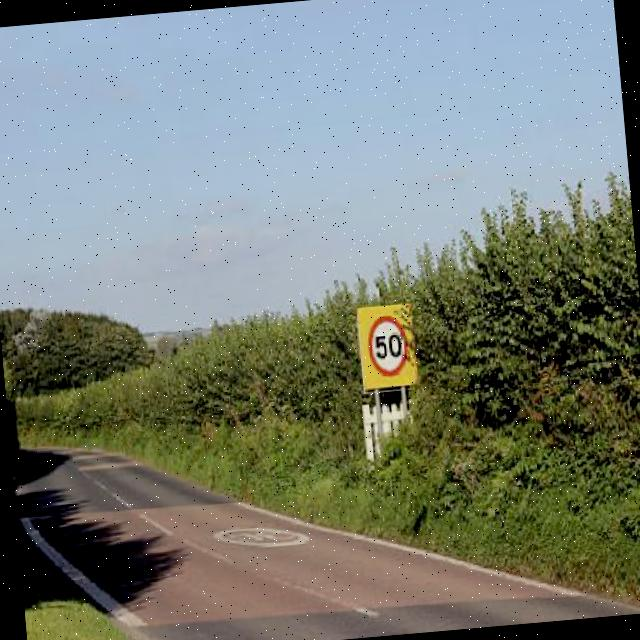Ograniczenie predkosci do 50: (363, 304, 414, 382)
